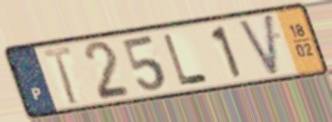1: (210, 23, 244, 81)
2: (83, 39, 135, 103)
5: (120, 33, 169, 94)
L: (161, 32, 212, 87)
T: (40, 44, 79, 108)
V: (235, 11, 280, 79)
